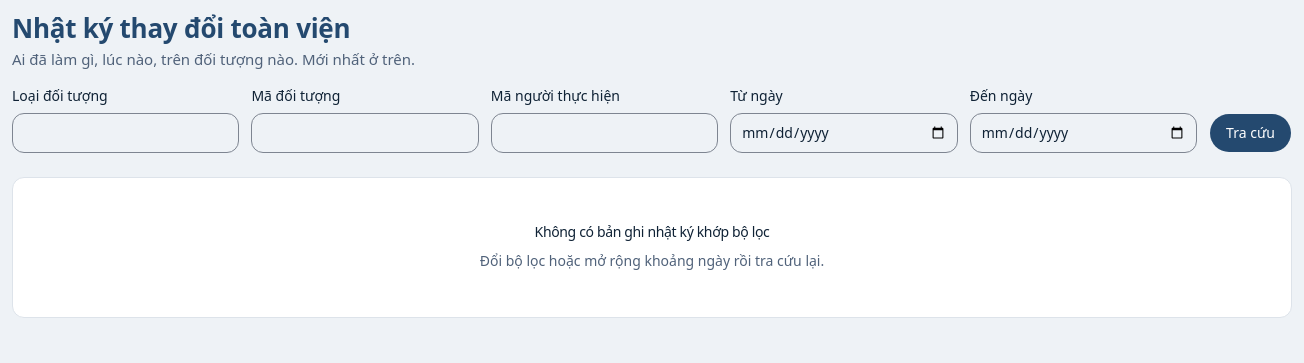
Scenario: AuditLogTable › maNguoiThucHienKhongPhaiSo_baoTaiO_khongGoiApi
Check: the text "Không có bản ghi nhật ký khớp bộ lọc" is shown, box [535,222,769,242]
Type "abc" into the field labelled "Mã người thực hiện".
click(604, 133); type("abc")  # box [491,113,718,153]
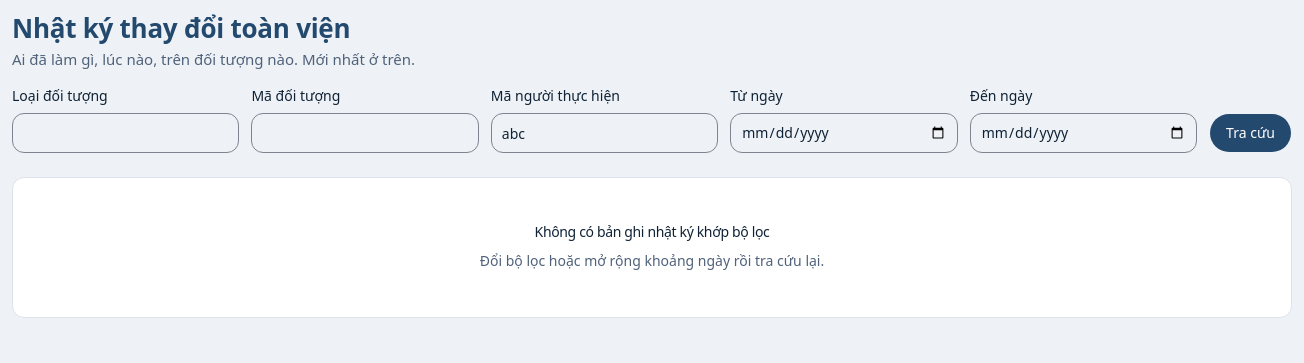
Click the button "Tra cứu".
click(1251, 133)  # box [1209,113,1292,153]
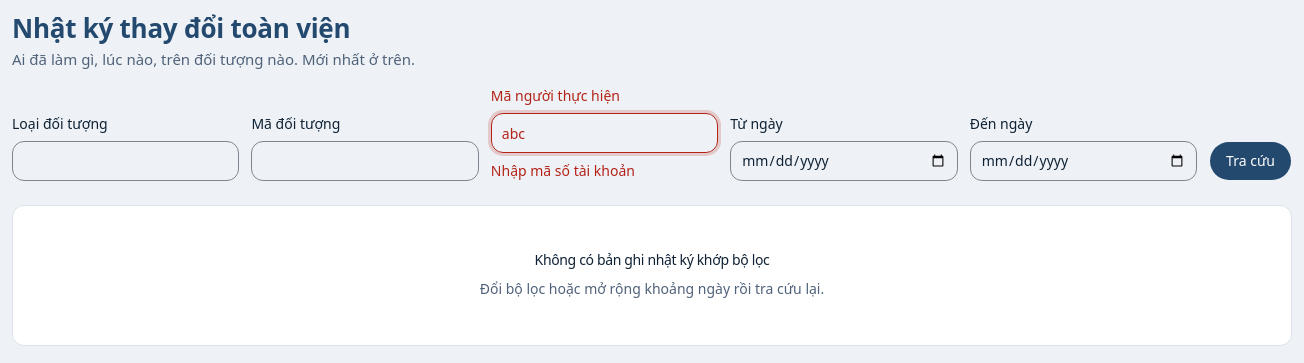
Check: the text "Nhập mã số tài khoản" is shown, box [491,161,635,180]
